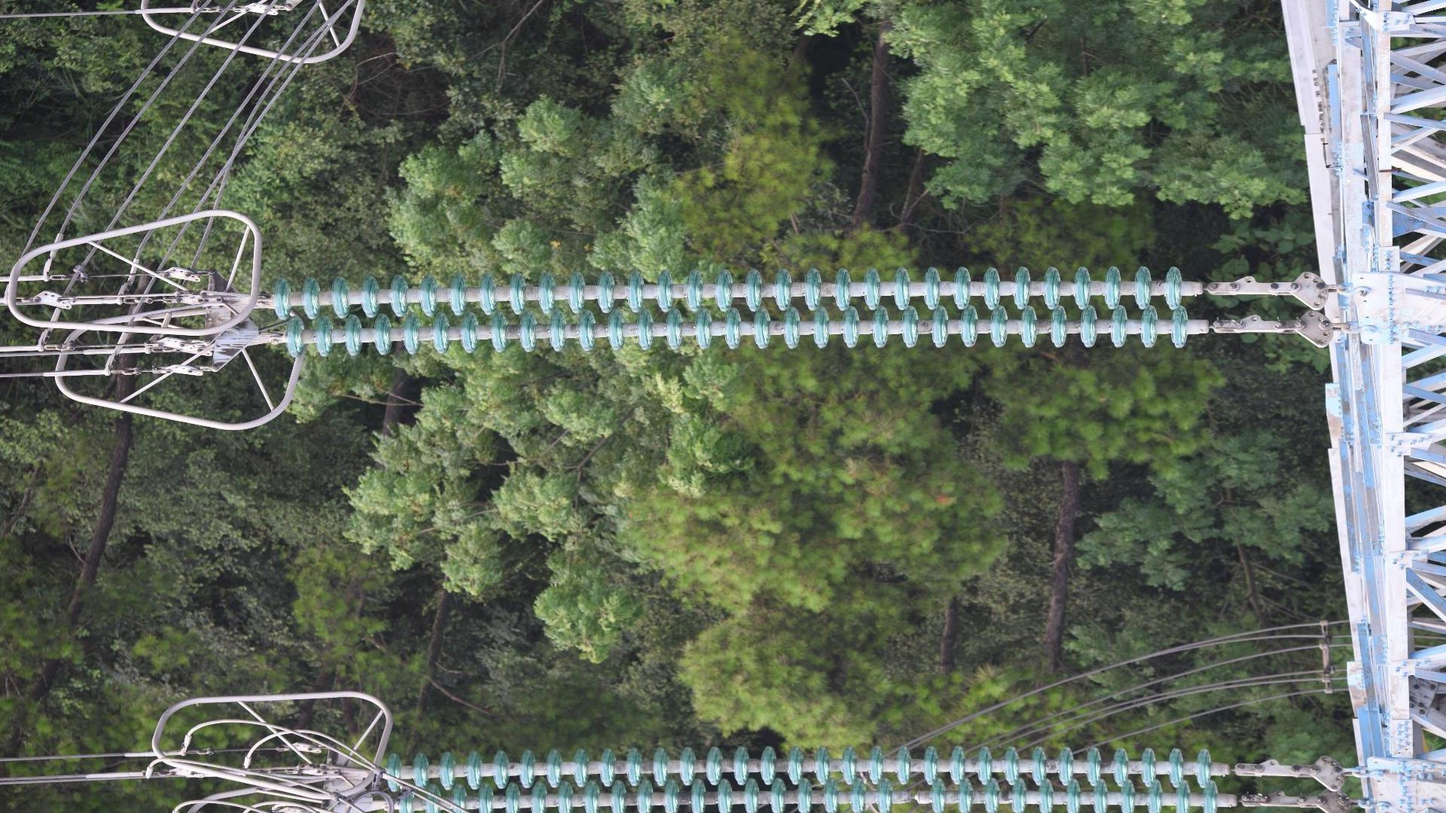insulator: (268, 260, 1193, 365), (378, 736, 1227, 813)
insulator_stringdrop: (874, 774, 951, 813)
